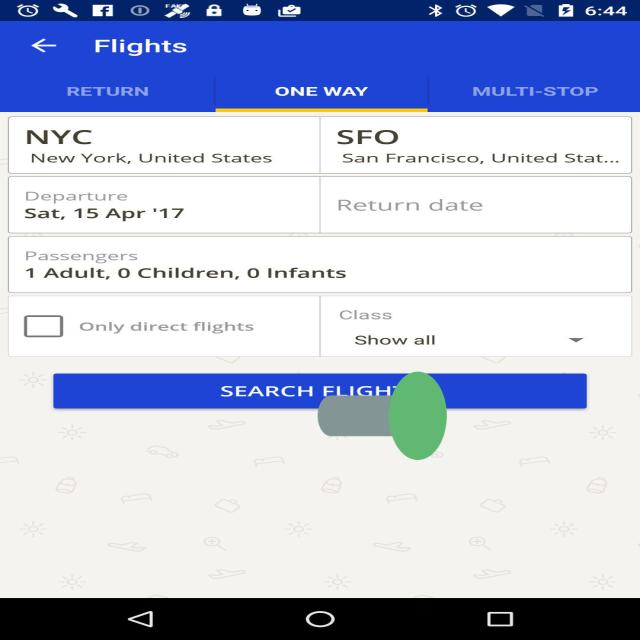social proof: (318, 318, 447, 514)
